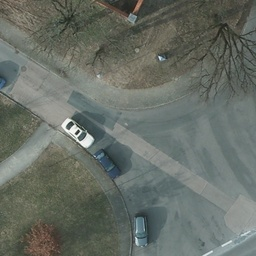car: (93, 148, 120, 181), (60, 122, 93, 146), (132, 214, 149, 247)
